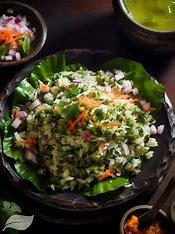Gotukola Mallum: (4, 64, 171, 204)
